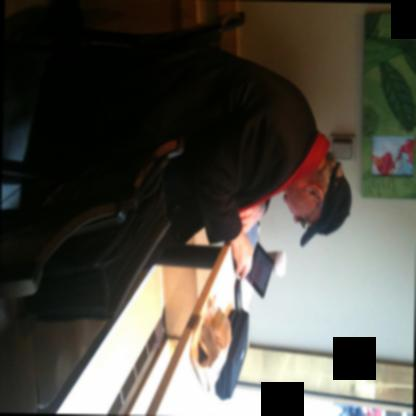suitcase: (26, 174, 174, 329)
